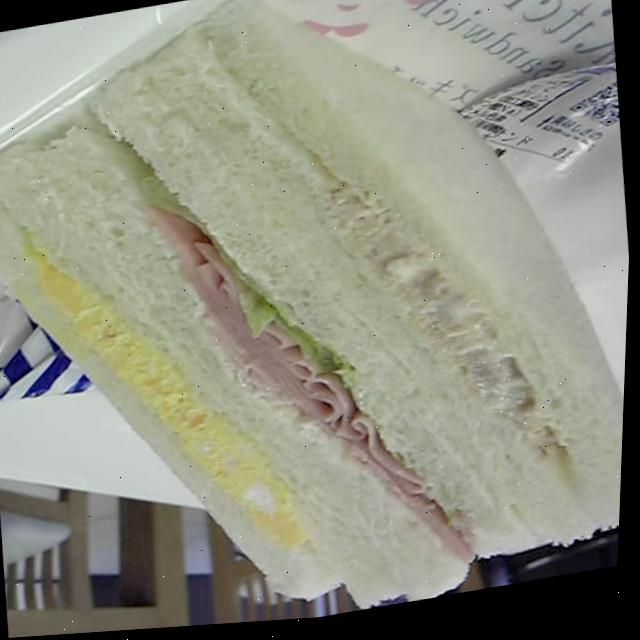三明治: (0, 107, 636, 640)
